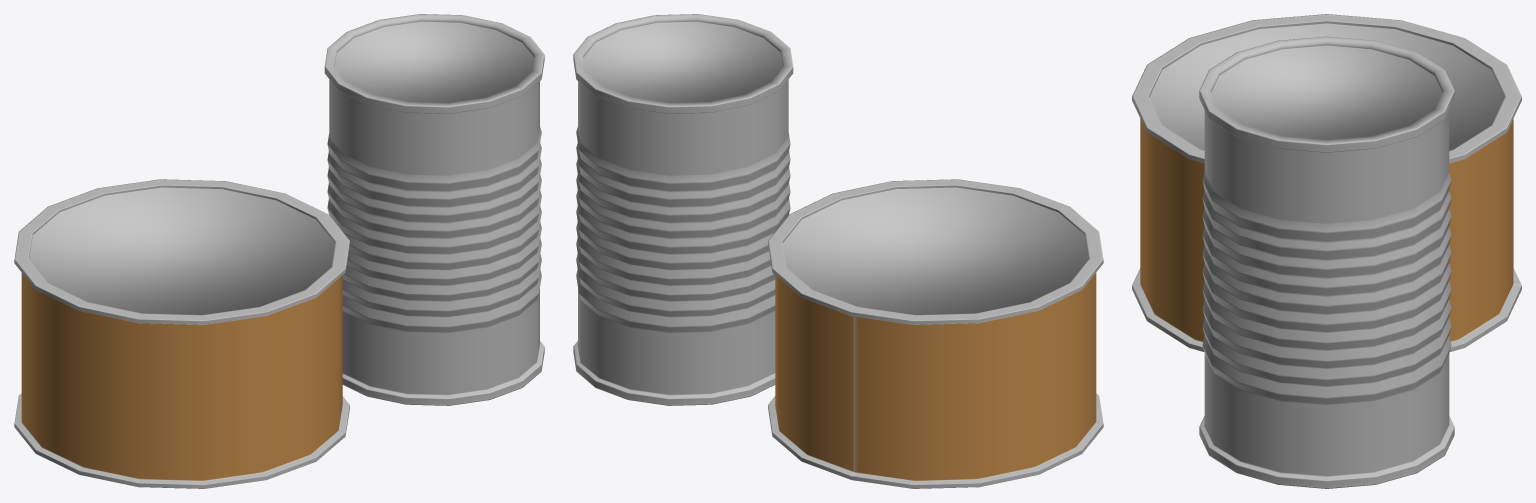
The model's file is Canned Goods1.fbx.
3 views of the same model, side by side, from view 1: azimuth 30°, elevation 25°; view 2: azimuth 150°, elevation 25°; view 3: azimuth 270°, elevation 25° (orthographic). The views are drawn at different scales.
Visible parts, largest first — view 1: Cylinder; view 2: Cylinder; view 3: Cylinder.
Boxes of the visible parts, x1,y1,x2,y2 form: Cylinder: [14, 14, 544, 488]; Cylinder: [573, 14, 1103, 488]; Cylinder: [1132, 14, 1521, 488].
Size of the model in its own units: 499 by 288 by 296.
Materials: 1 (1 with a texture image).
